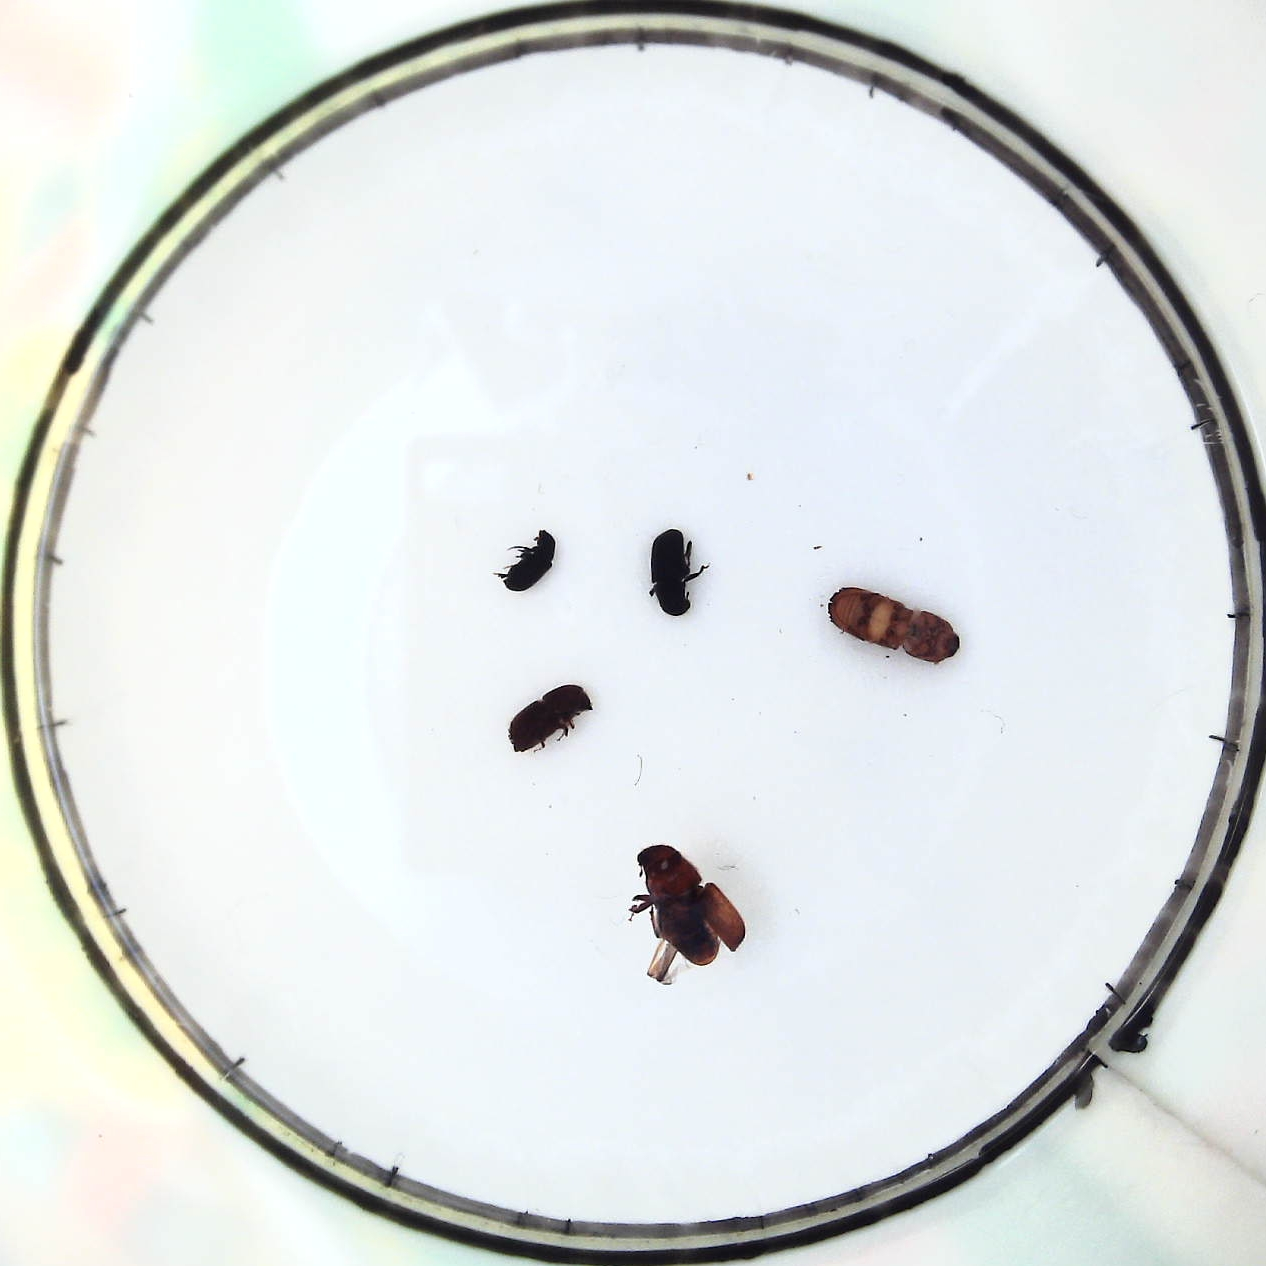Boerner: (817, 579, 960, 669)
Leconte: (631, 842, 748, 984)
Linnaeus: (507, 684, 595, 754)
armandi: (643, 530, 703, 618)
coleoptera: (502, 530, 553, 589)
